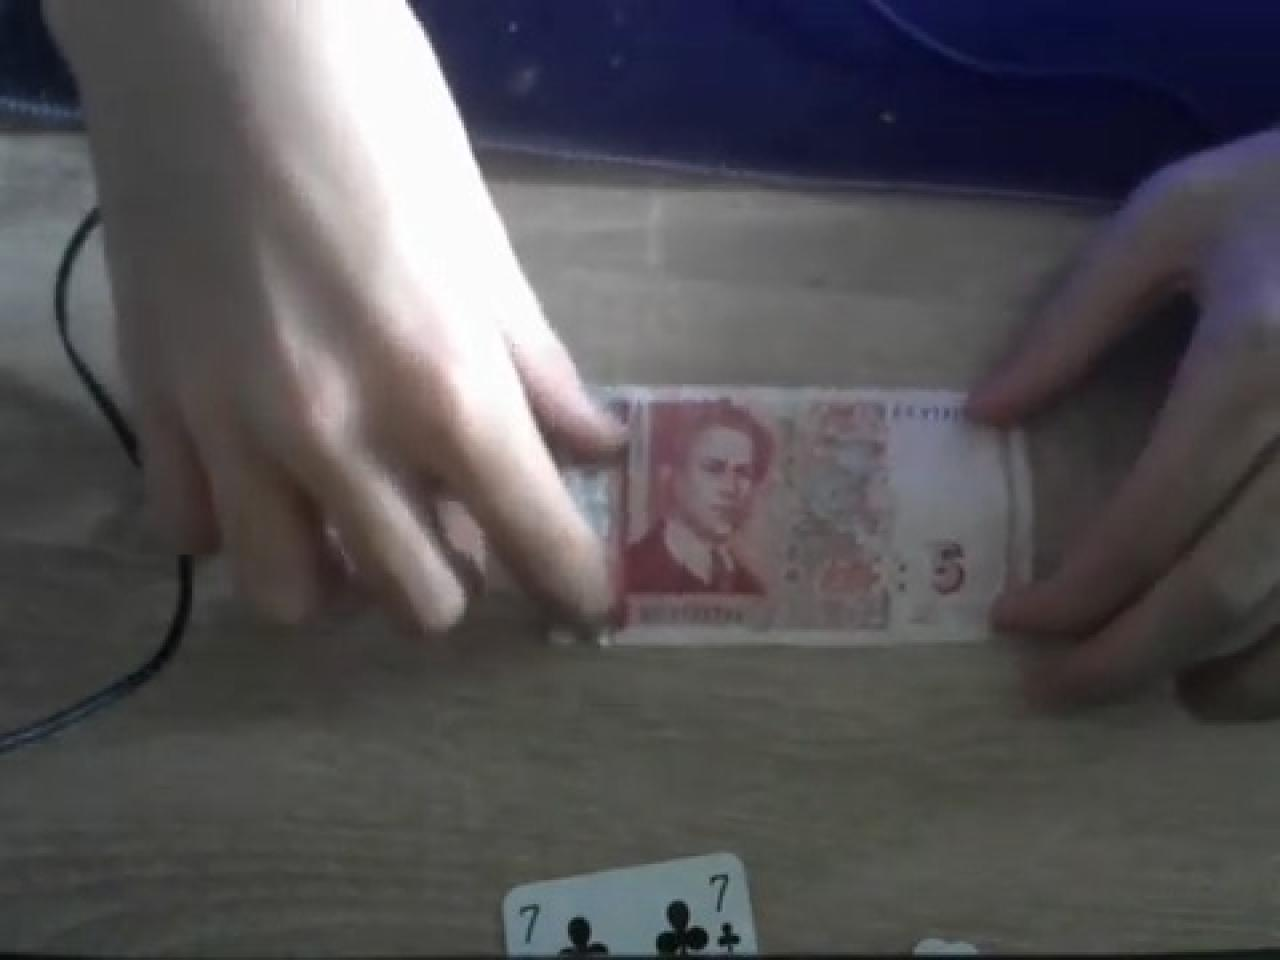5leva: (616, 386, 1027, 645)
